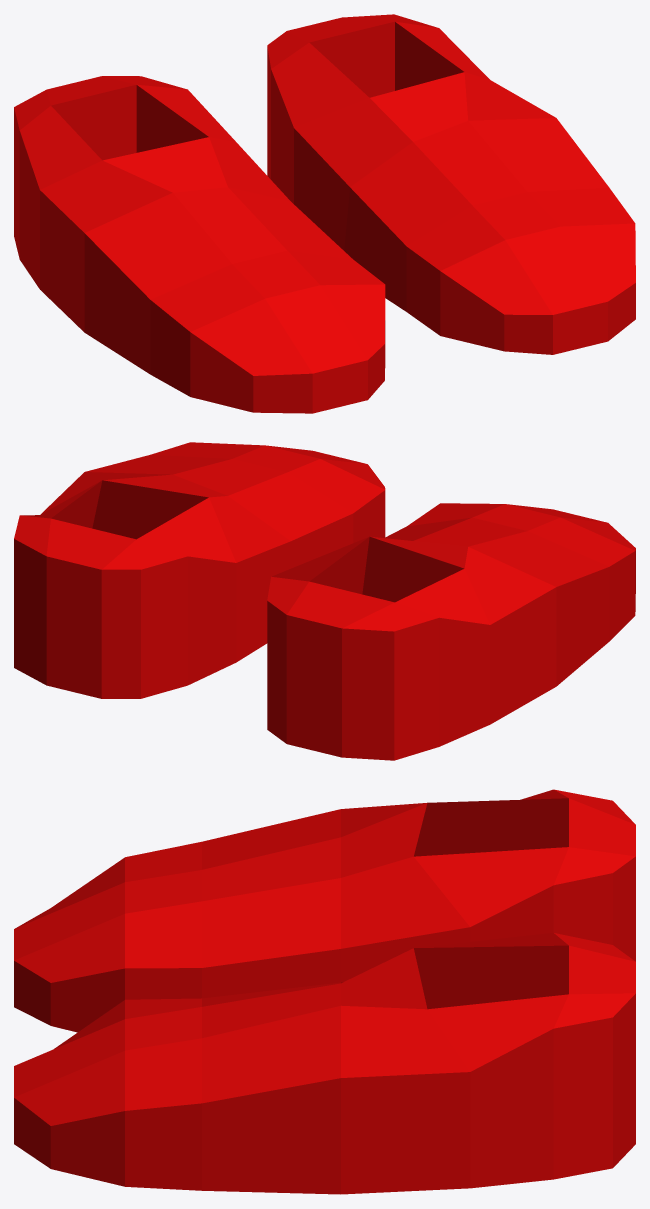
Rendered from booties.fbx.
3 views of the same model, one above another, from view 1: azimuth 30°, elevation 25°; view 2: azimuth 150°, elevation 25°; view 3: azimuth 270°, elevation 25° (orthographic). The views are drawn at different scales.
Visible parts, largest first — view 1: polySurface1; view 2: polySurface1; view 3: polySurface1.
Part boxes in pixels (x1,y1,x2,y2): polySurface1: (14, 14, 635, 413); polySurface1: (14, 442, 635, 760); polySurface1: (14, 789, 635, 1194).
Size of the model in its own units: 7.6 by 2.16 by 7.43.
